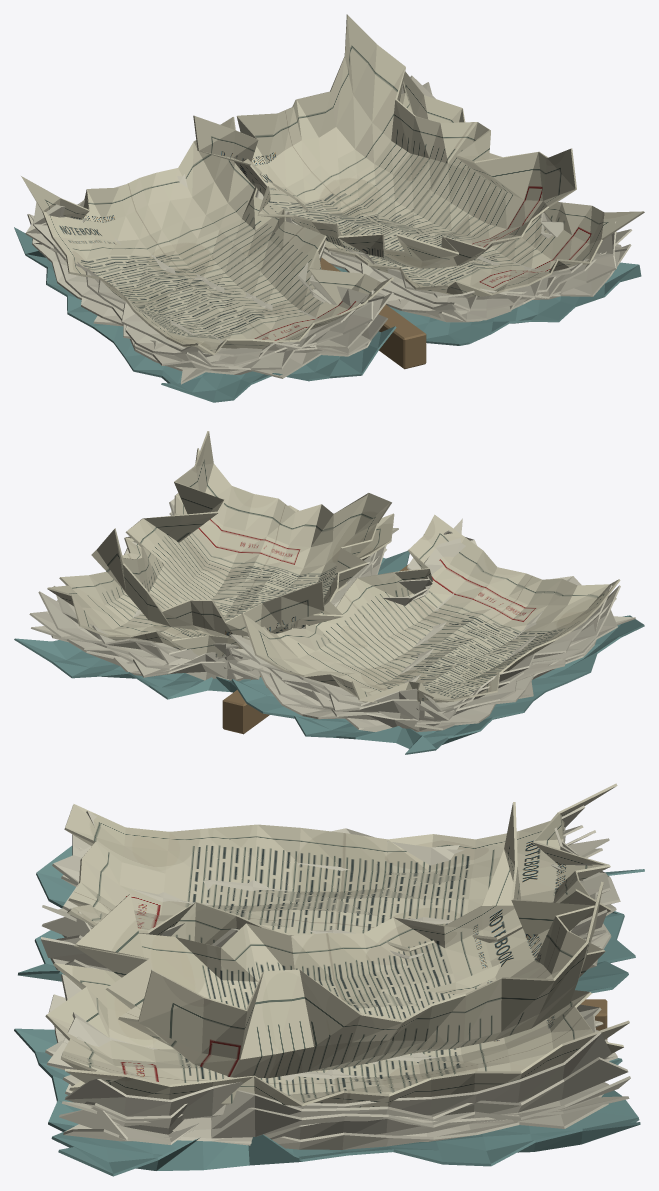
File: DS_Clue_Notebook_Damaged_V01.fbx
3 views of the same model, one above another, from view 1: azimuth 30°, elevation 25°; view 2: azimuth 150°, elevation 25°; view 3: azimuth 270°, elevation 25° (orthographic). The views are drawn at different scales.
Parts seen in each view (by area): view 1: DS_Clue_Notebook_Damaged_V01; view 2: DS_Clue_Notebook_Damaged_V01; view 3: DS_Clue_Notebook_Damaged_V01.
Part boxes in pixels (box(x1,y1,x2,y2)): DS_Clue_Notebook_Damaged_V01: box(14, 14, 644, 402); DS_Clue_Notebook_Damaged_V01: box(14, 431, 644, 754); DS_Clue_Notebook_Damaged_V01: box(14, 783, 644, 1176).
Size of the model in its own units: 73.54 by 26.12 by 58.87.
Materials: 4 (1 with a texture image).
